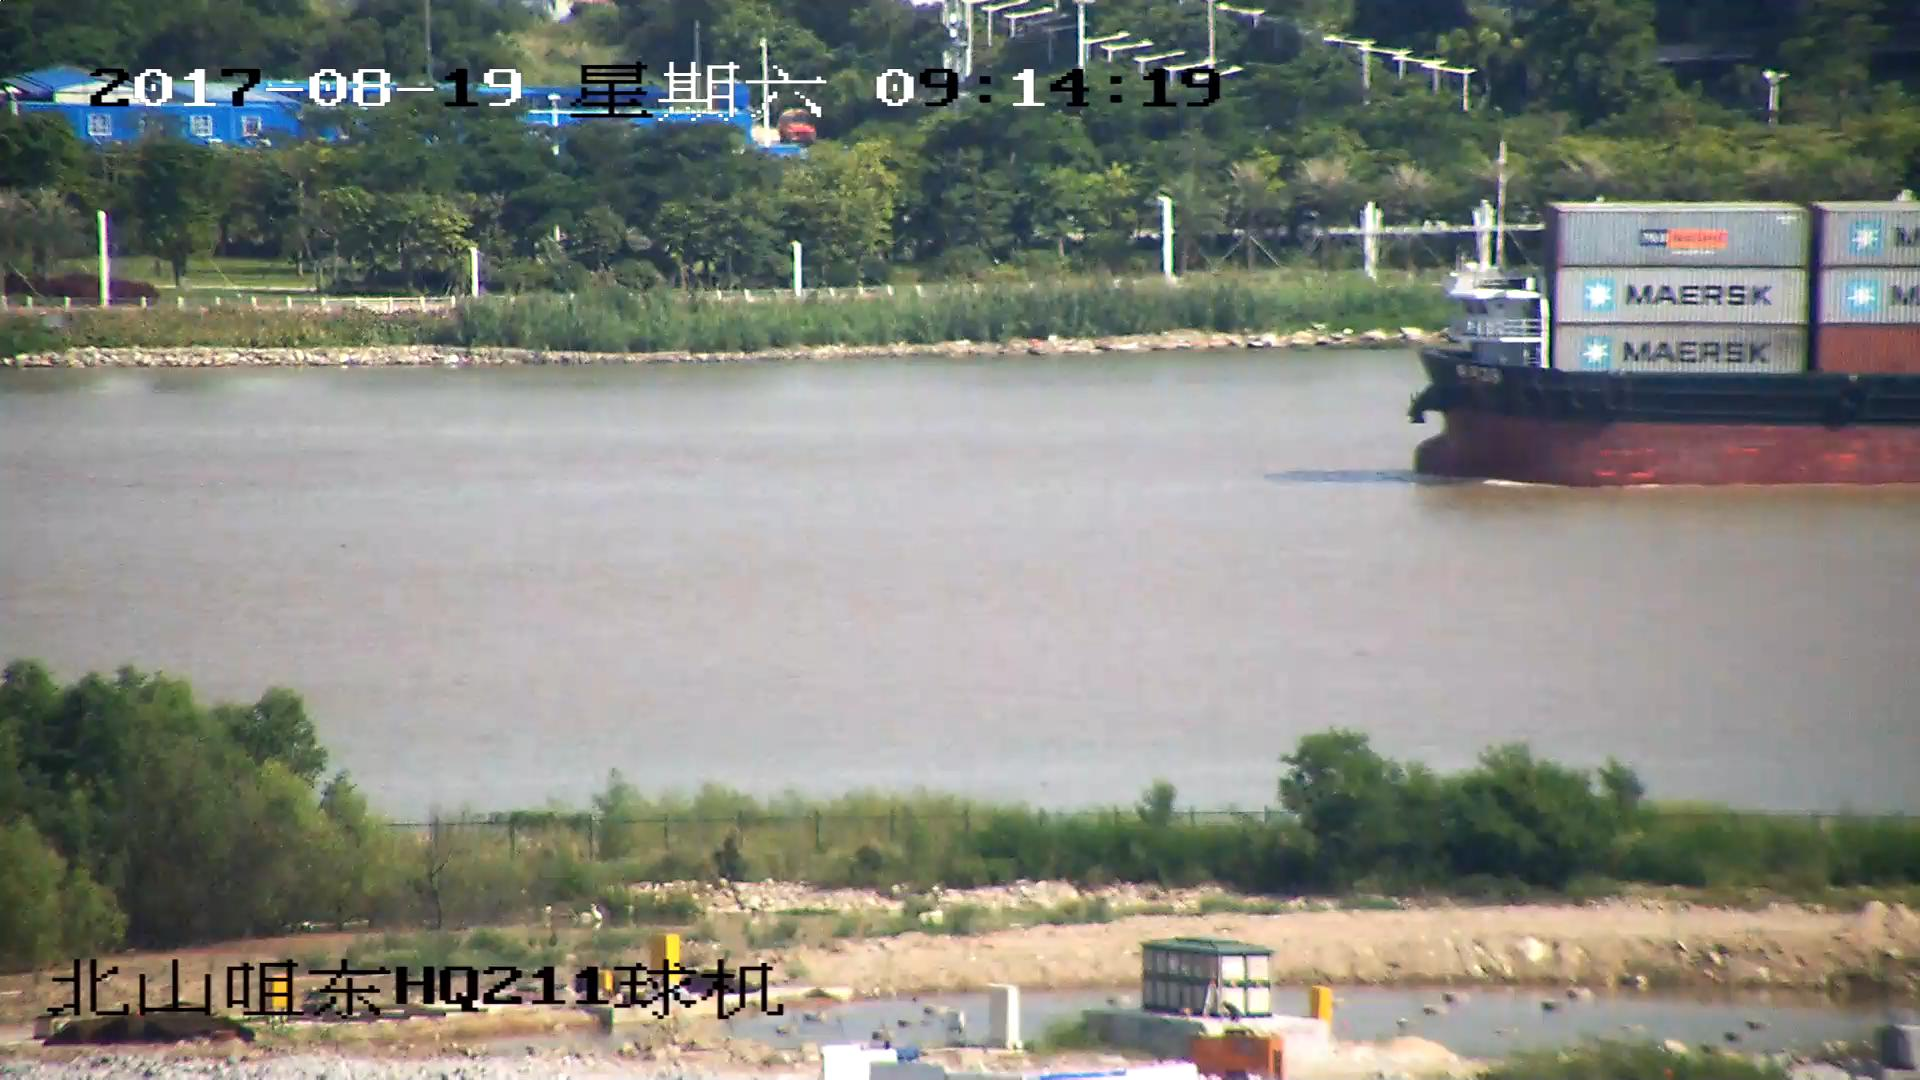container ship: (1407, 198, 1920, 487)
